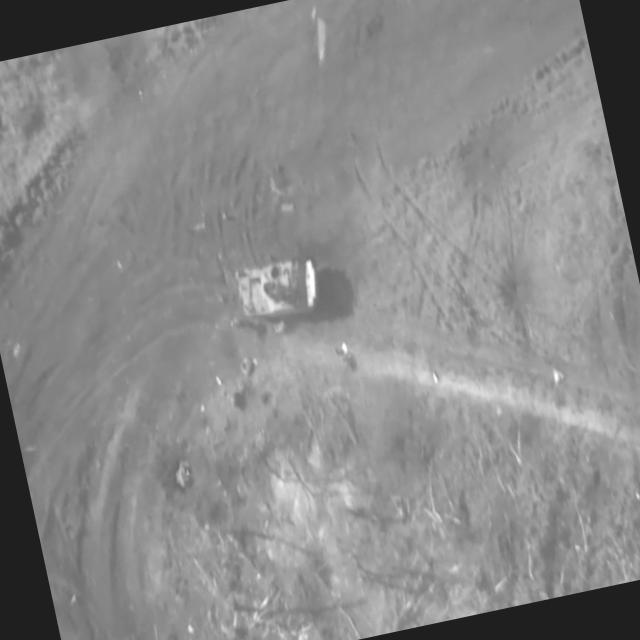AIFV: (232, 250, 326, 327)
